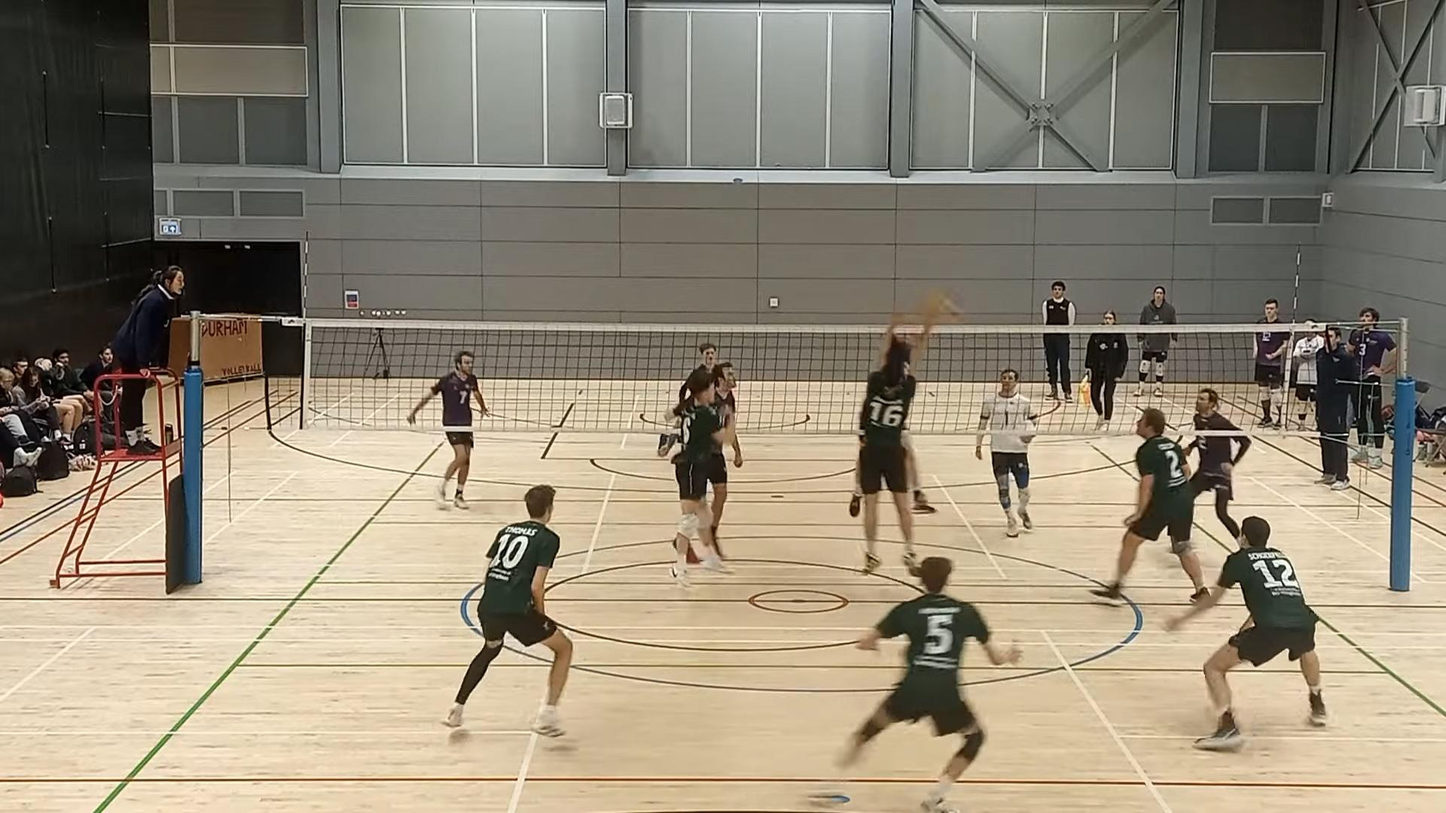Block: (850, 315, 922, 577)
Player: (838, 556, 1020, 812), (1167, 516, 1327, 750), (444, 485, 572, 736), (1091, 407, 1207, 603), (671, 367, 734, 586), (407, 351, 487, 508), (975, 368, 1038, 537), (1185, 388, 1252, 538), (901, 420, 936, 513), (901, 426, 936, 513), (709, 445, 728, 556), (694, 343, 717, 370)
